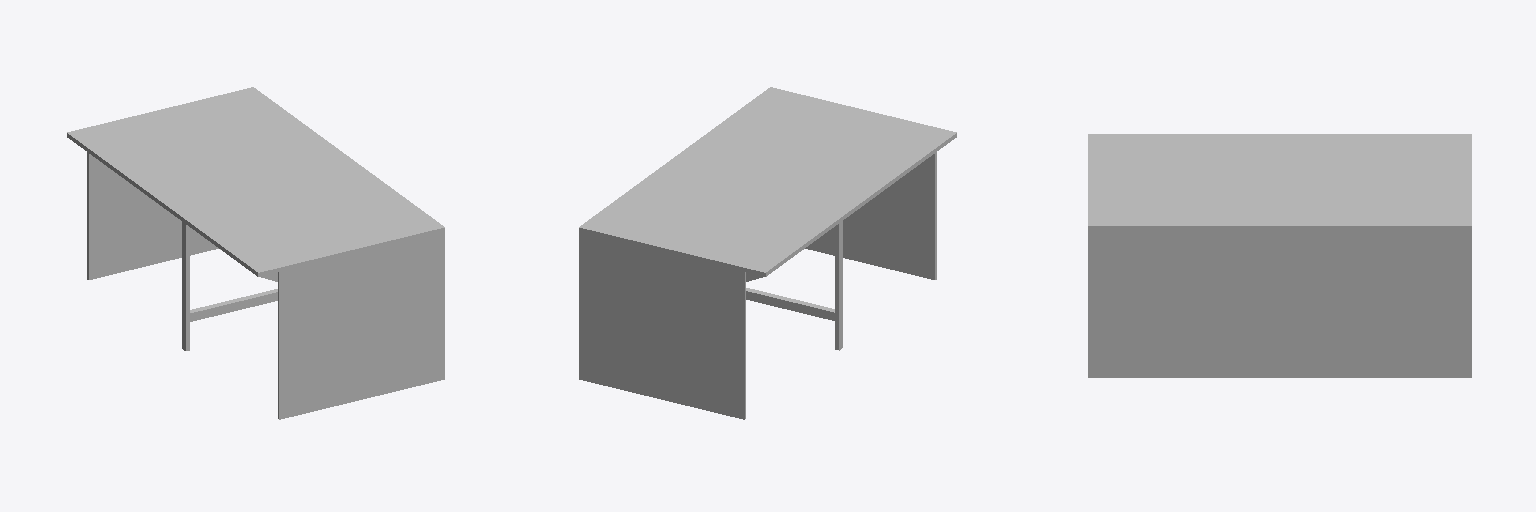
File: hut.obj
3 views of the same model, side by side, from view 1: azimuth 30°, elevation 25°; view 2: azimuth 150°, elevation 25°; view 3: azimuth 270°, elevation 25° (orthographic).
Parts seen in each view (by area): view 1: Part6, Part5, Part3, Part4, Part2; view 2: Part6, Part3, Part5, Part4, Part2; view 3: Part1, Part6.
Part boxes in pixels (bbox=[...]): Part6: bbox=[67, 87, 444, 276]; Part5: bbox=[278, 230, 444, 419]; Part3: bbox=[87, 152, 218, 279]; Part4: bbox=[182, 289, 277, 321]; Part2: bbox=[182, 222, 189, 350]; Part6: bbox=[579, 87, 956, 276]; Part3: bbox=[579, 231, 745, 419]; Part5: bbox=[805, 152, 936, 279]; Part4: bbox=[746, 288, 842, 321]; Part2: bbox=[835, 221, 842, 350]; Part1: bbox=[1088, 228, 1471, 377]; Part6: bbox=[1088, 134, 1471, 229].
Bounding box in the file's own units: 9 × 7 × 16.